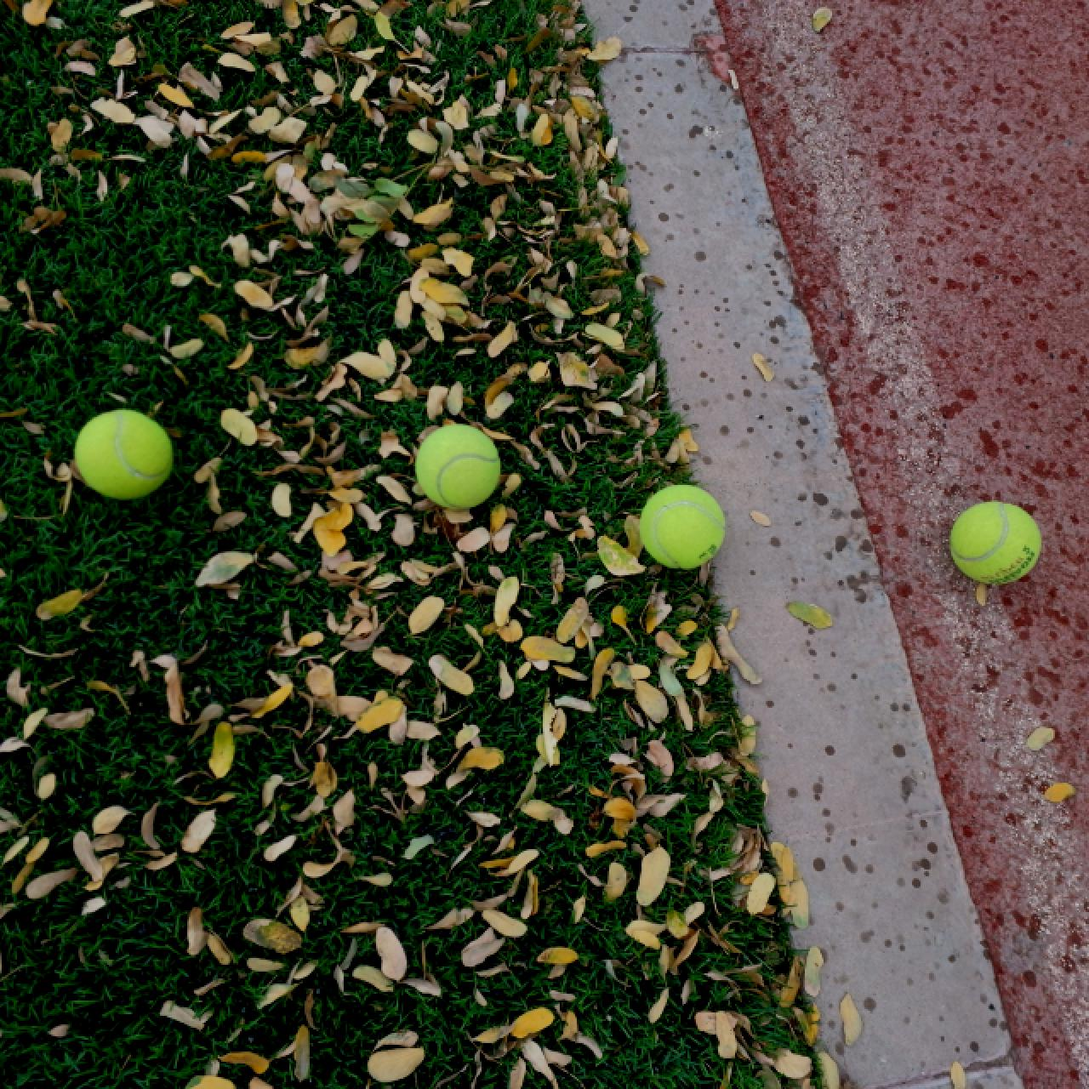tennis-ball: (74, 407, 173, 501), (948, 499, 1043, 586), (415, 420, 500, 512), (637, 482, 724, 569)
